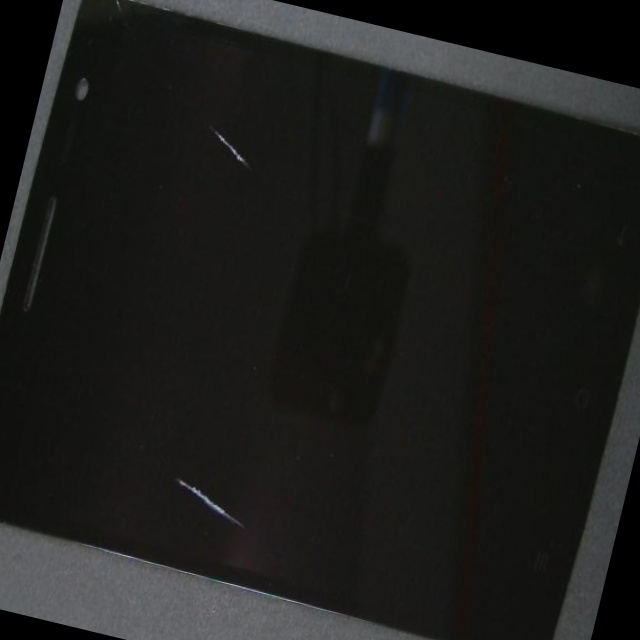scratch: (122, 277, 429, 640), (153, 84, 360, 245)
